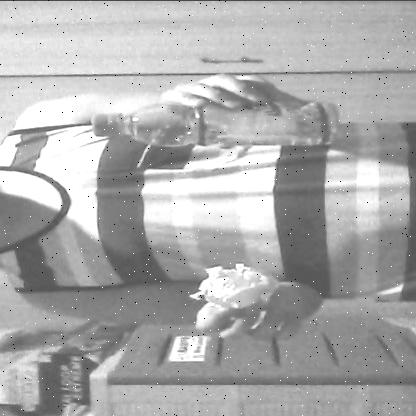Plastic Bottle: (72, 95, 349, 152)
